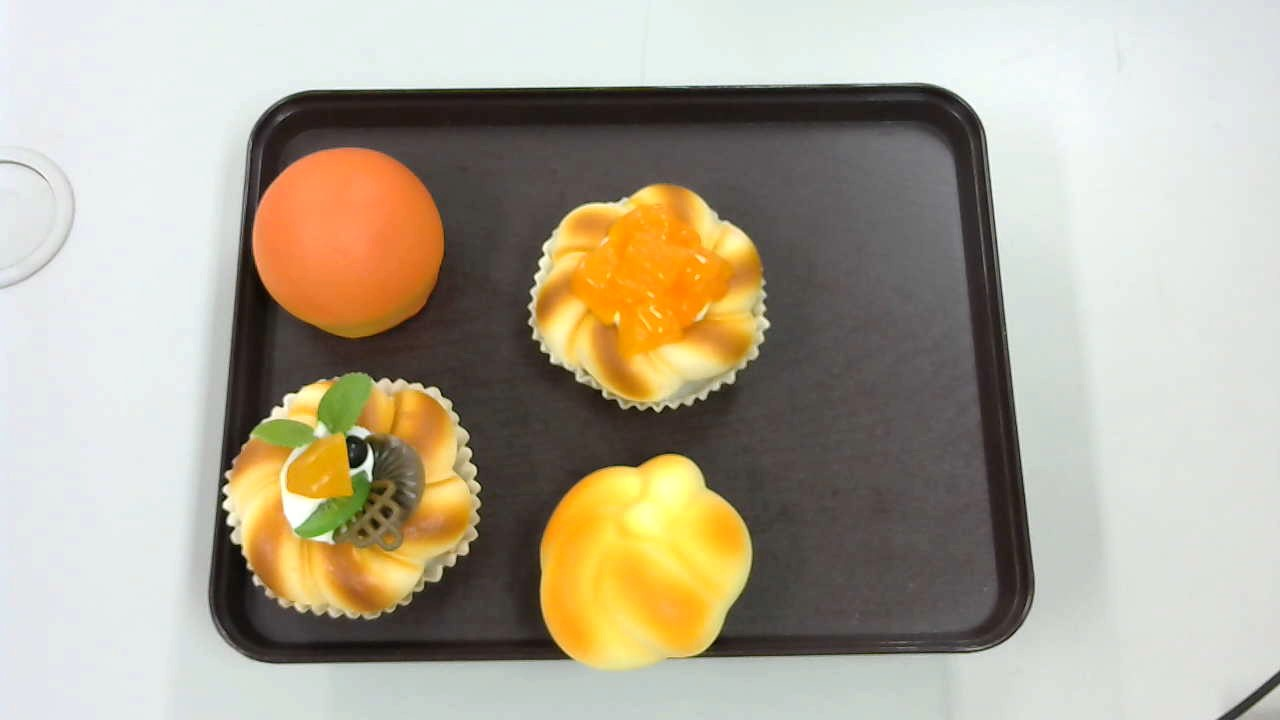bun: (250, 145, 445, 340)
fruit tart: (223, 370, 480, 622)
mango tart: (528, 183, 771, 412)
twist bread: (536, 454, 754, 673)
